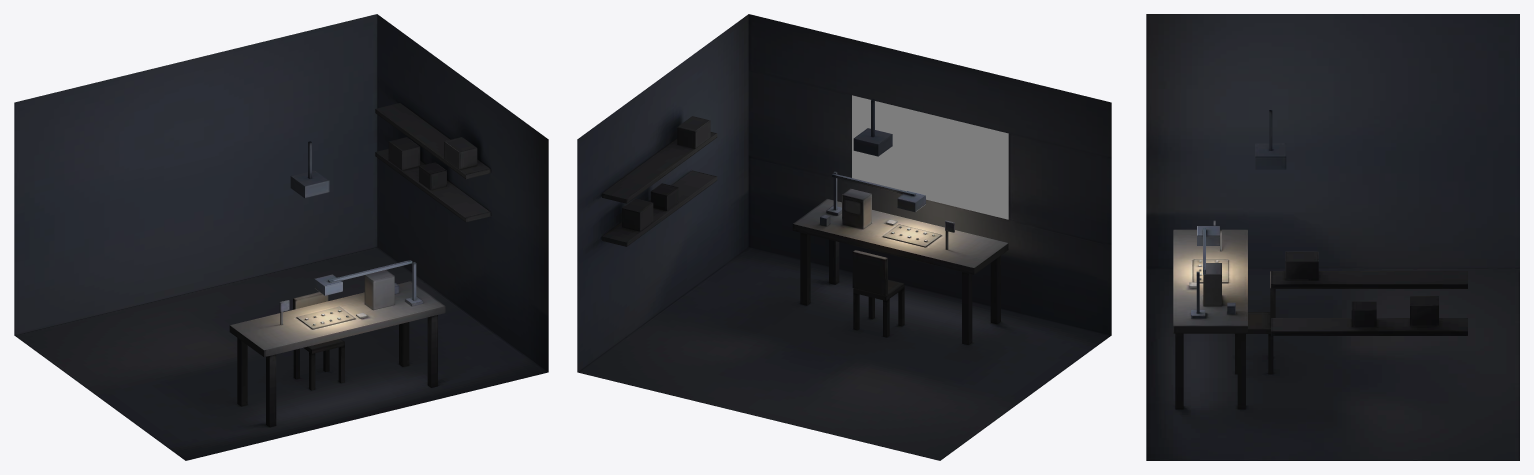
The model's file is era_clock.glb.
3 renders of one model, left to right at view 1: azimuth 30°, elevation 25°; view 2: azimuth 150°, elevation 25°; view 3: azimuth 270°, elevation 25°, orthographic. The views are drawn at different scales.
Visible parts, largest first — view 1: CH_era_clock_static; view 2: CH_era_clock_static; view 3: CH_era_clock_static.
Boxes of the visible parts, bbox=[...] form: CH_era_clock_static: bbox=[14, 14, 548, 460]; CH_era_clock_static: bbox=[577, 14, 1111, 460]; CH_era_clock_static: bbox=[1146, 14, 1519, 460].
Size of the model in its own units: 4.4 by 2.7 by 3.66.
1 material, 1 textured.
